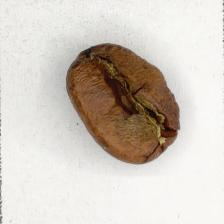NG: (85, 51, 164, 140)
